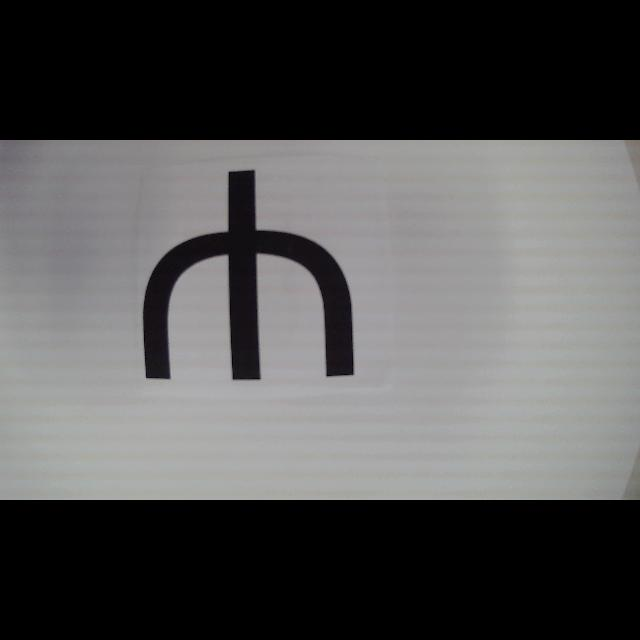PSI: (142, 168, 358, 382)
